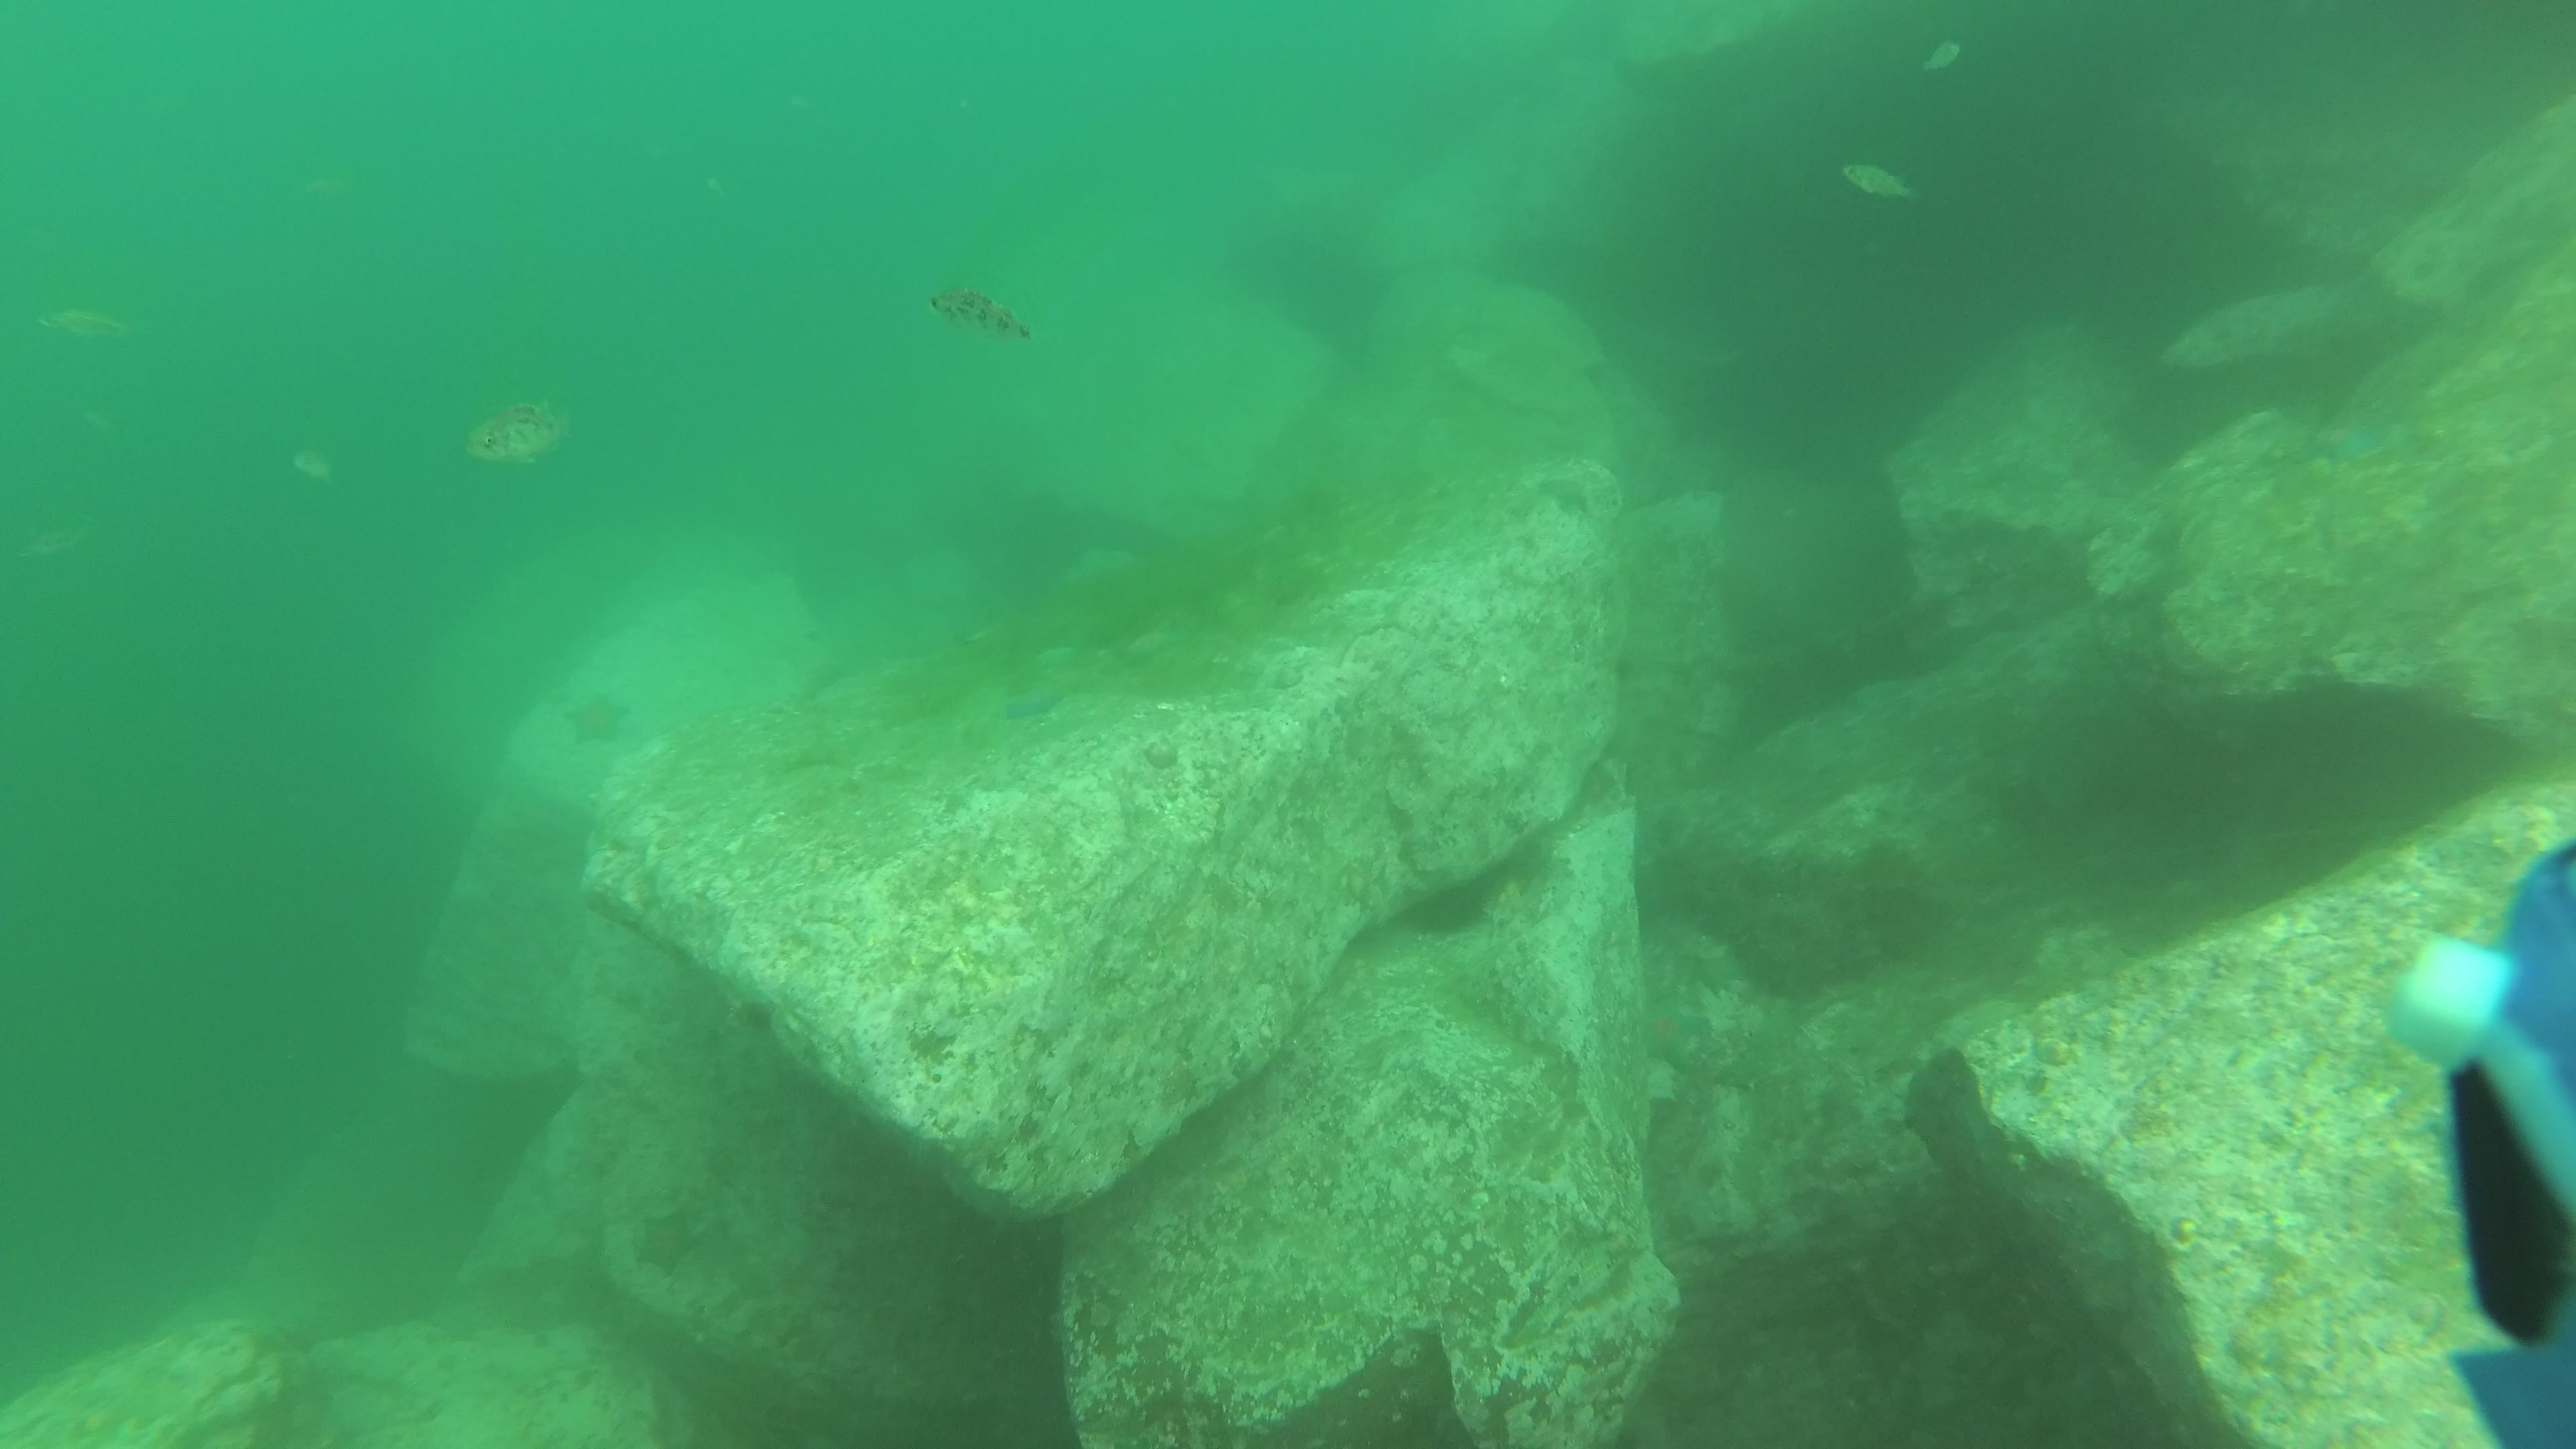starfish: (1642, 993, 1713, 1076), (628, 1207, 706, 1274), (557, 690, 635, 748), (2302, 419, 2392, 464), (1534, 469, 1596, 518), (996, 688, 1069, 725)
